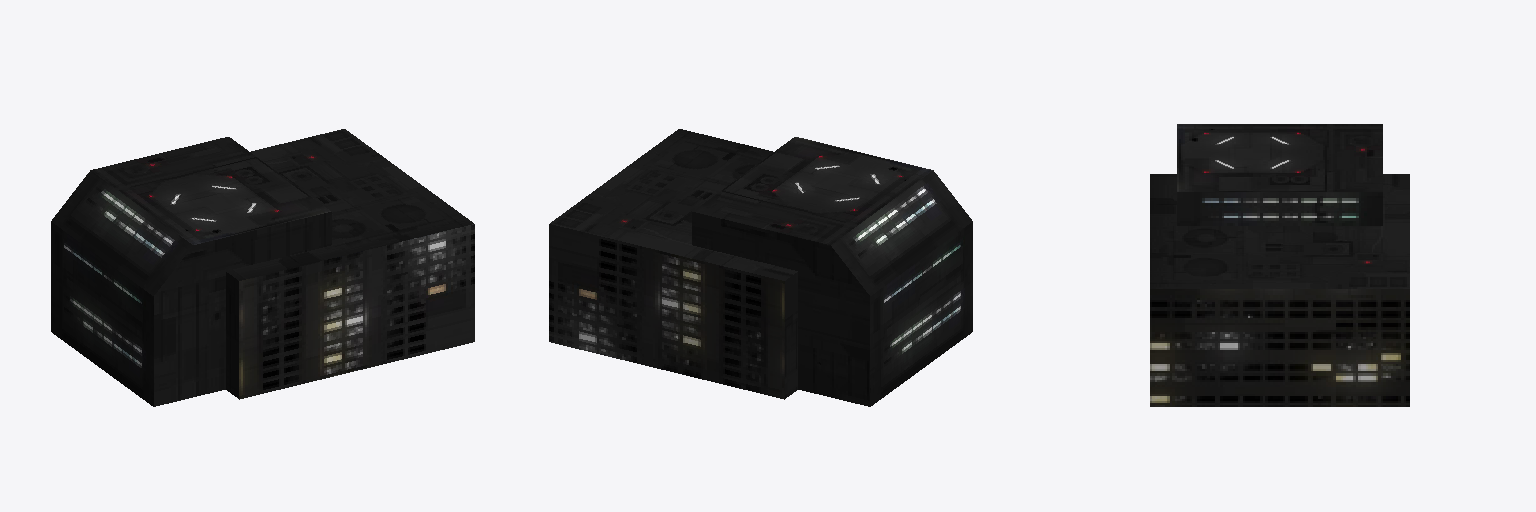
3 views of the same model, side by side, from view 1: azimuth 30°, elevation 25°; view 2: azimuth 150°, elevation 25°; view 3: azimuth 270°, elevation 25° (orthographic).
Parts seen in each view (by area): view 1: building_32; view 2: building_32; view 3: building_32.
Boxes of the visible parts, box(x1,y1,x2,y2) form: building_32: box(51, 129, 474, 406); building_32: box(549, 129, 972, 406); building_32: box(1150, 124, 1409, 406).
Bounding box in the file's own units: 91.25 × 43.12 × 66.85.
1 materials, 1 textured.